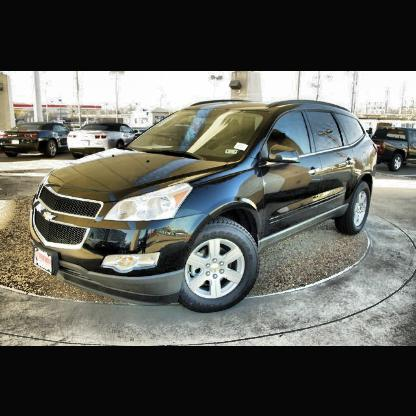Chevrolet Traverse SUV 2012: (30, 72, 379, 315)
